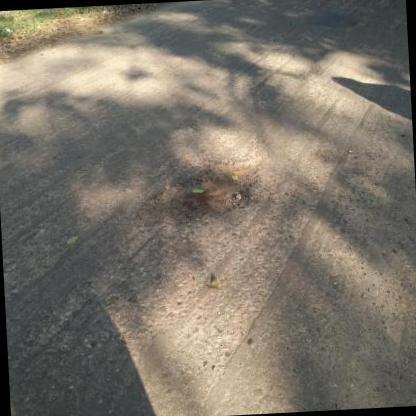pothole: (130, 155, 262, 231)
